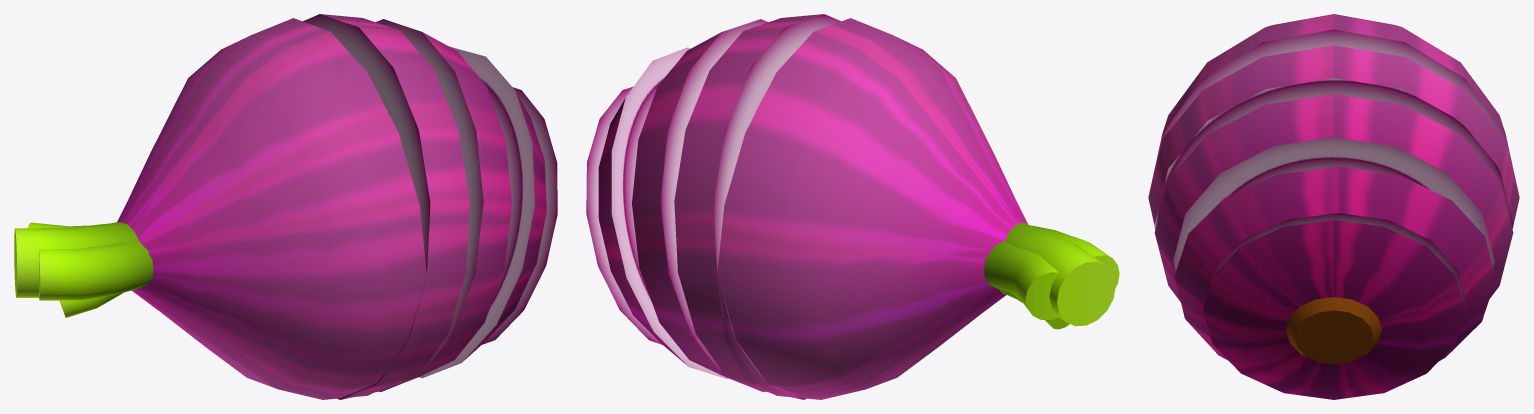
Rendered from Onion_01_S4.fbx.
The picture shows the model from 3 angles, left to right: view 1: azimuth 30°, elevation 25°; view 2: azimuth 150°, elevation 25°; view 3: azimuth 270°, elevation 25°; orthographic projection. The views are drawn at different scales.
Visible parts, largest first — view 1: Onion_01_S4; view 2: Onion_01_S4; view 3: Onion_01_S4.
Part boxes in pixels (x1,y1,x2,y2): Onion_01_S4: [14, 14, 557, 399]; Onion_01_S4: [586, 14, 1119, 399]; Onion_01_S4: [1148, 14, 1519, 399].
Size of the model in its own units: 49.52 by 32.97 by 32.97.
